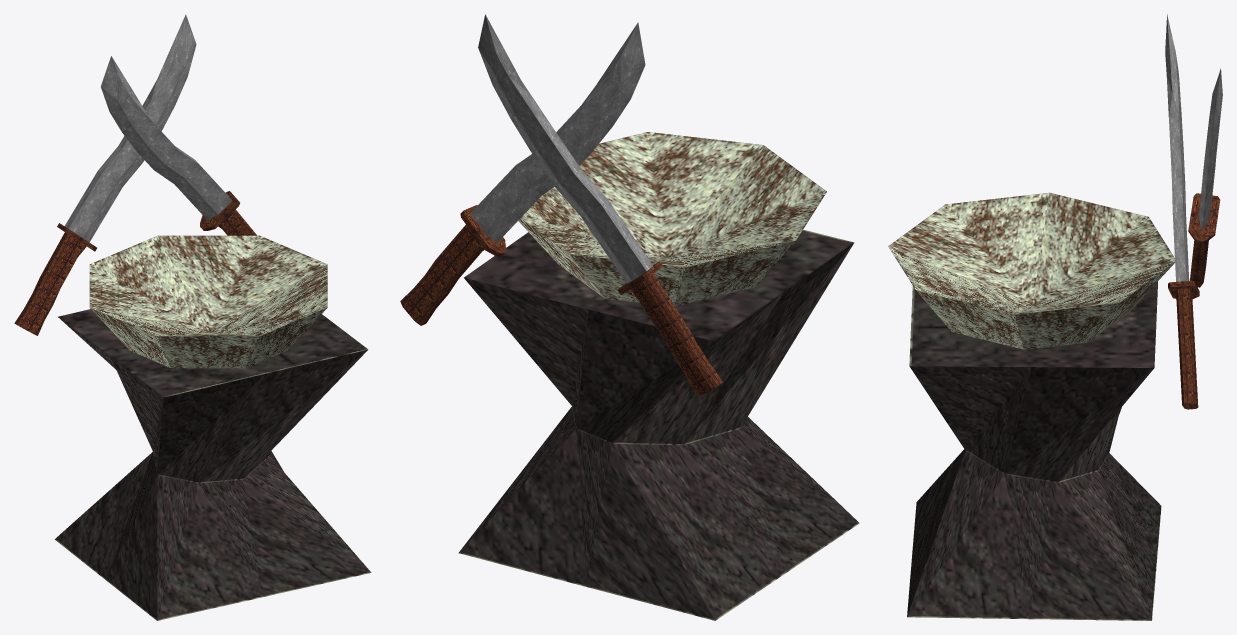
The model's file is blood altar.obj.
3 views of the same model, side by side, from view 1: azimuth 30°, elevation 25°; view 2: azimuth 150°, elevation 25°; view 3: azimuth 270°, elevation 25° (orthographic). The views are drawn at different scales.
Parts seen in each view (by area): view 1: Default; view 2: Default; view 3: Default.
Boxes of the visible parts, left/top/right/bottom form: Default: left=14, top=14, right=371, bottom=620; Default: left=400, top=14, right=859, bottom=620; Default: left=888, top=14, right=1222, bottom=620.
Size of the model in its own units: 1.38 by 2.36 by 1.37.
Materials: 1 (1 with a texture image).
